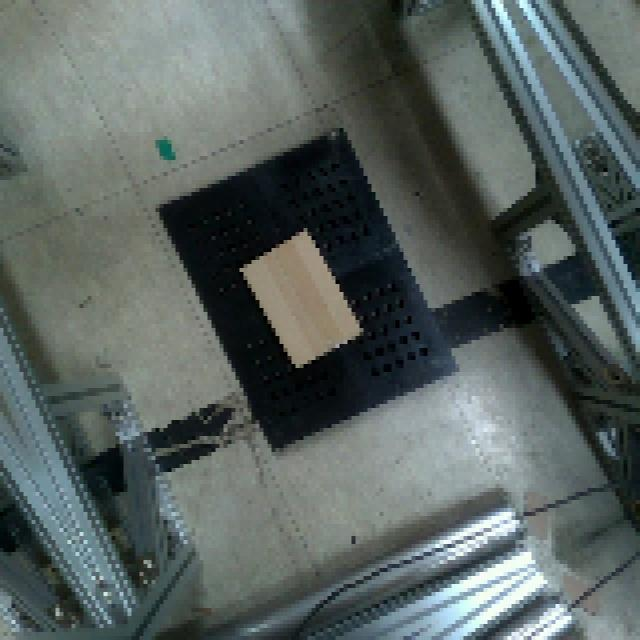box: (230, 221, 371, 376)
pallet: (148, 120, 464, 460)
